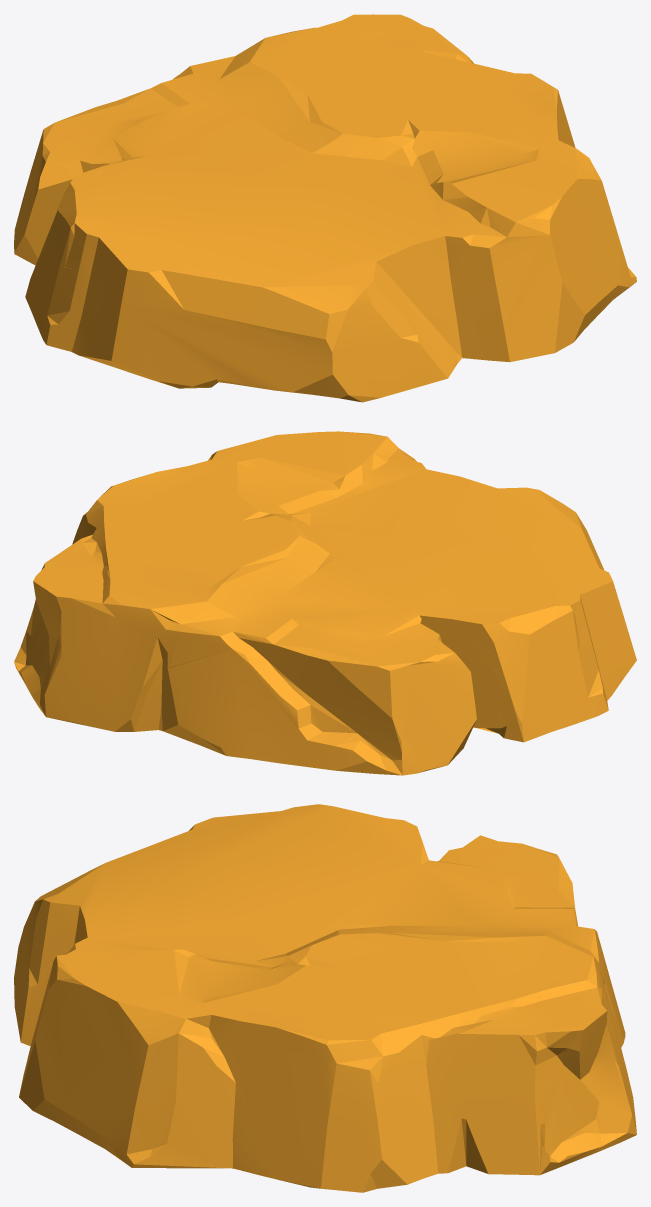
The model's file is SM_Iceberg_Medium_A_Plane.fbx.
3 views of the same model, one above another, from view 1: azimuth 30°, elevation 25°; view 2: azimuth 150°, elevation 25°; view 3: azimuth 270°, elevation 25° (orthographic). The views are drawn at different scales.
Visible parts, largest first — view 1: iceberg-medium-a-plane; view 2: iceberg-medium-a-plane; view 3: iceberg-medium-a-plane.
Part boxes in pixels (x1=…): iceberg-medium-a-plane: x1=14, y1=14, x2=636, y2=402; iceberg-medium-a-plane: x1=14, y1=431, x2=636, y2=775; iceberg-medium-a-plane: x1=14, y1=804, x2=636, y2=1192.
Size of the model in its own units: 9.34 by 2.17 by 8.5.
